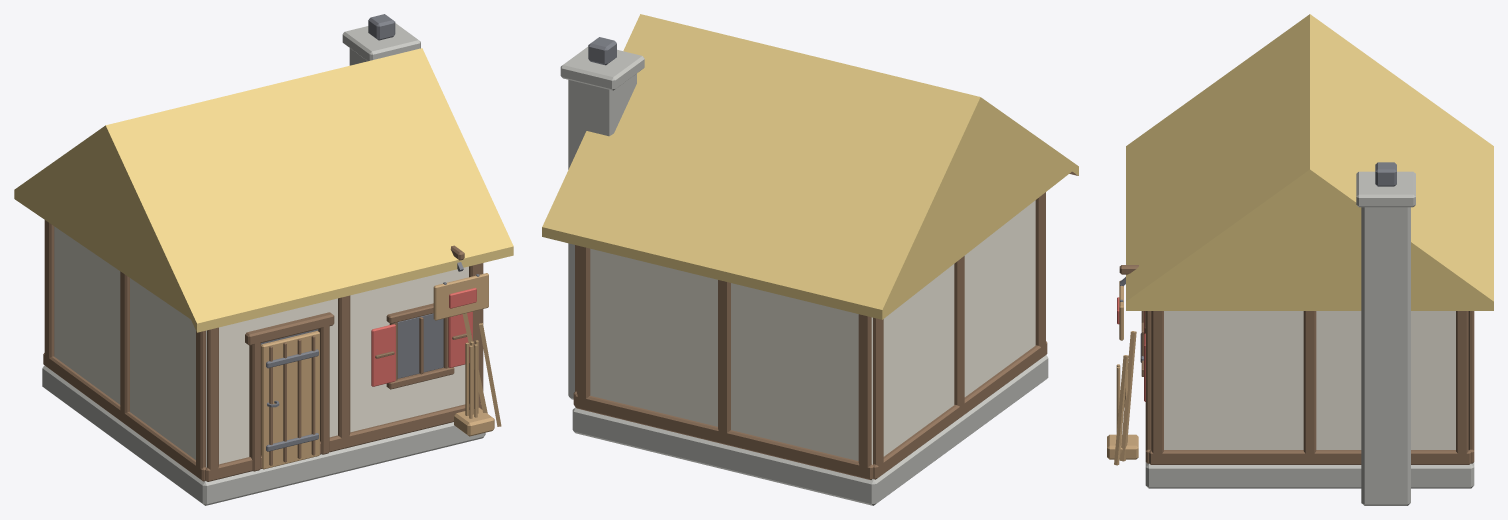
The model's file is fletcher-shop.glb.
3 views of the same model, side by side, from view 1: azimuth 30°, elevation 25°; view 2: azimuth 150°, elevation 25°; view 3: azimuth 270°, elevation 25° (orthographic). The views are drawn at different scales.
Parts seen in each view (by area): view 1: fletcher-shop, door/wood, door/timber, sign/wood, door/iron; view 2: fletcher-shop; view 3: fletcher-shop.
Boxes of the visible parts, x1,y1,x2,y2 form: fletcher-shop: (14, 14, 513, 505); door/wood: (261, 331, 319, 469); door/timber: (269, 335, 315, 465); sign/wood: (433, 273, 488, 320); door/iron: (266, 349, 318, 451); fletcher-shop: (542, 14, 1078, 505); fletcher-shop: (1107, 14, 1493, 505).
Bounding box in the file's own units: 6.22 × 5.76 × 6.1.
